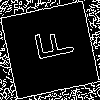F: (25, 25, 75, 65)
